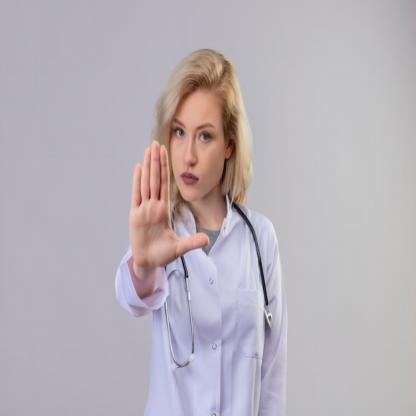stop: (127, 136, 212, 278)
